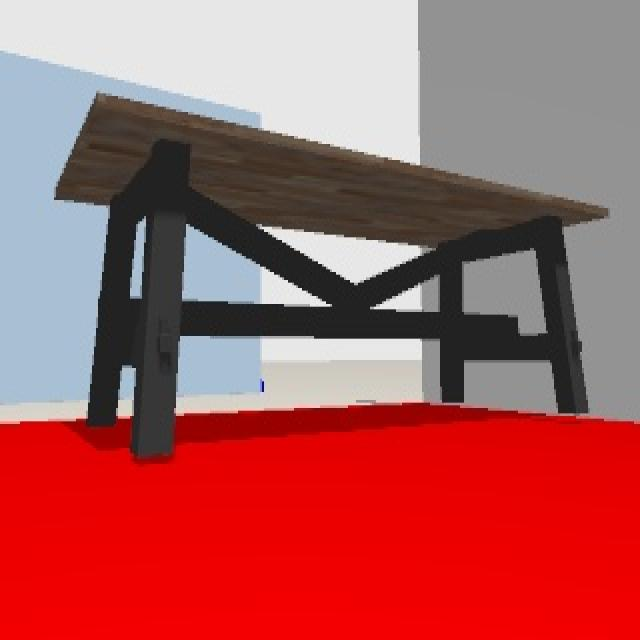dining: (53, 92, 605, 425)
